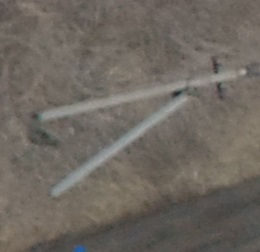opora: (35, 47, 259, 199)
